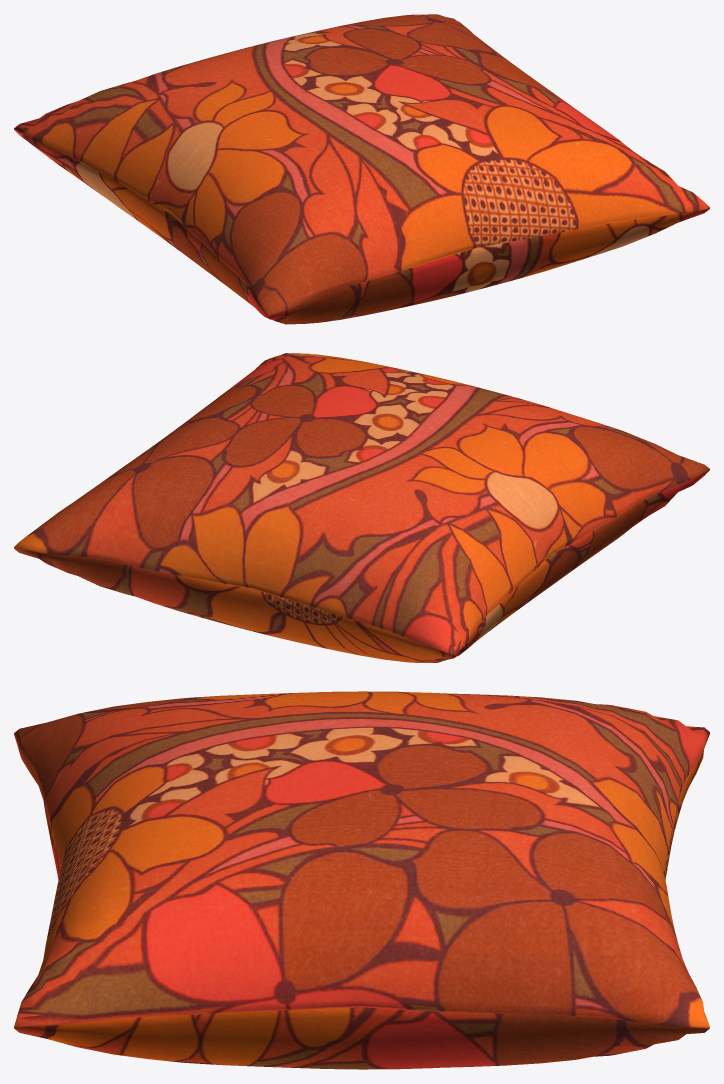
The model's file is cushion_throw_01.fbx.
3 views of the same model, one above another, from view 1: azimuth 30°, elevation 25°; view 2: azimuth 150°, elevation 25°; view 3: azimuth 270°, elevation 25° (orthographic). The views are drawn at different scales.
Parts seen in each view (by area): view 1: cush_throw1:cushion_throw; view 2: cush_throw1:cushion_throw; view 3: cush_throw1:cushion_throw.
Boxes of the visible parts, x1,y1,x2,y2 form: cush_throw1:cushion_throw: (14, 14, 709, 324); cush_throw1:cushion_throw: (14, 353, 709, 662); cush_throw1:cushion_throw: (14, 691, 709, 1069).
Size of the model in its own units: 0.4828 by 0.1855 by 0.4829.
1 material, 1 textured.
